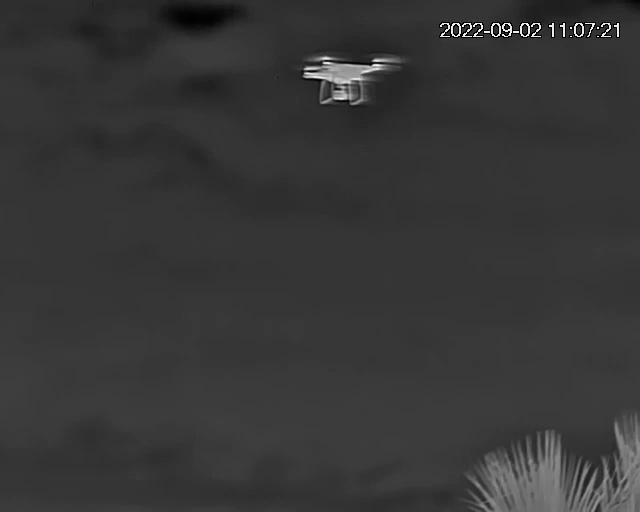DJI-Phantom: (308, 54, 401, 105)
